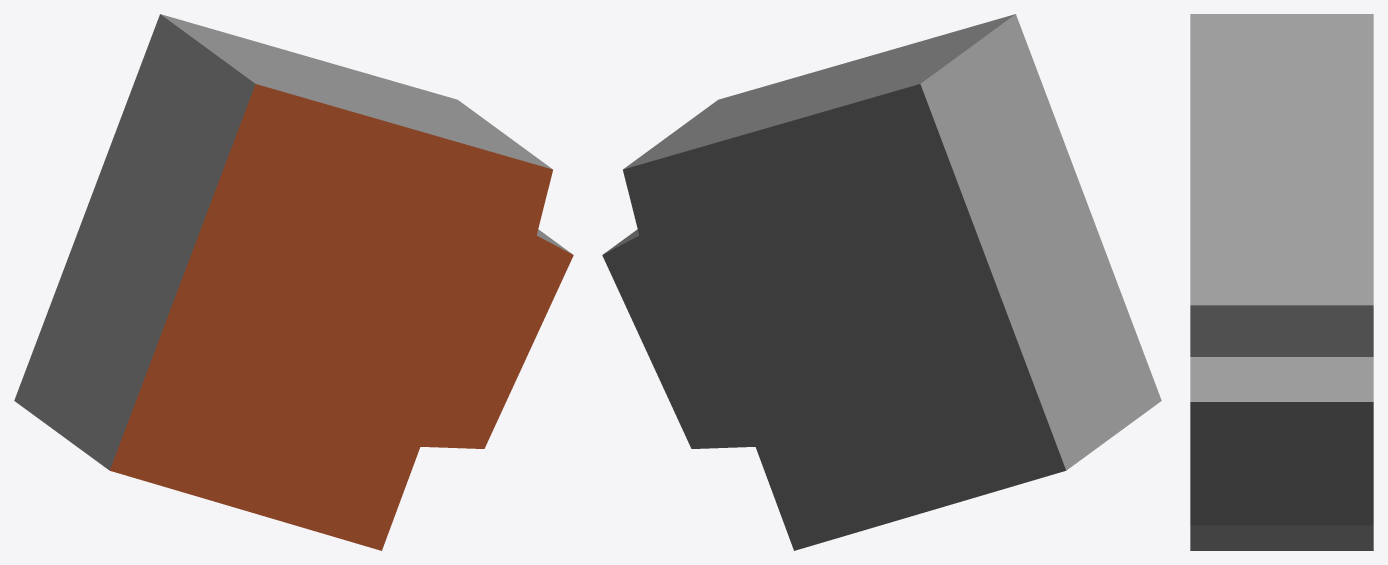
Rendered from construction_7268_assumed_A_Ruinas_h6m.obj.
3 renders of one model, left to right at view 1: azimuth 30°, elevation 25°; view 2: azimuth 150°, elevation 25°; view 3: azimuth 270°, elevation 25°, orthographic. The views are drawn at different scales.
Visible parts, largest first — view 1: construction_7268_assumed_A_Ruinas; view 2: construction_7268_assumed_A_Ruinas; view 3: construction_7268_assumed_A_Ruinas.
Part boxes in pixels (x1=…): construction_7268_assumed_A_Ruinas: x1=14, y1=14, x2=573, y2=550; construction_7268_assumed_A_Ruinas: x1=602, y1=14, x2=1161, y2=550; construction_7268_assumed_A_Ruinas: x1=1190, y1=14, x2=1373, y2=550.
Bounding box in the file's own units: 16.83 × 17.26 × 6.
